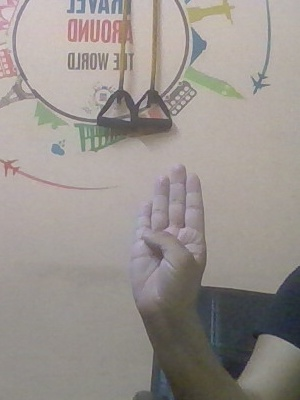B: (123, 157, 214, 339)
